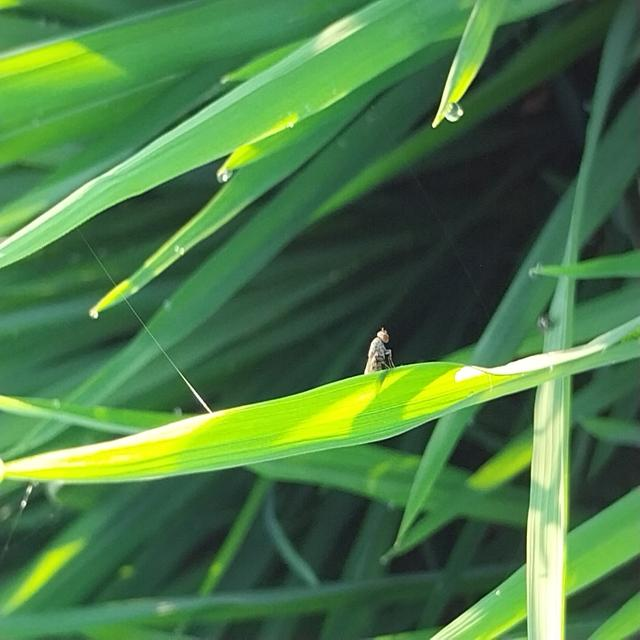healthy: (352, 317, 402, 395)
